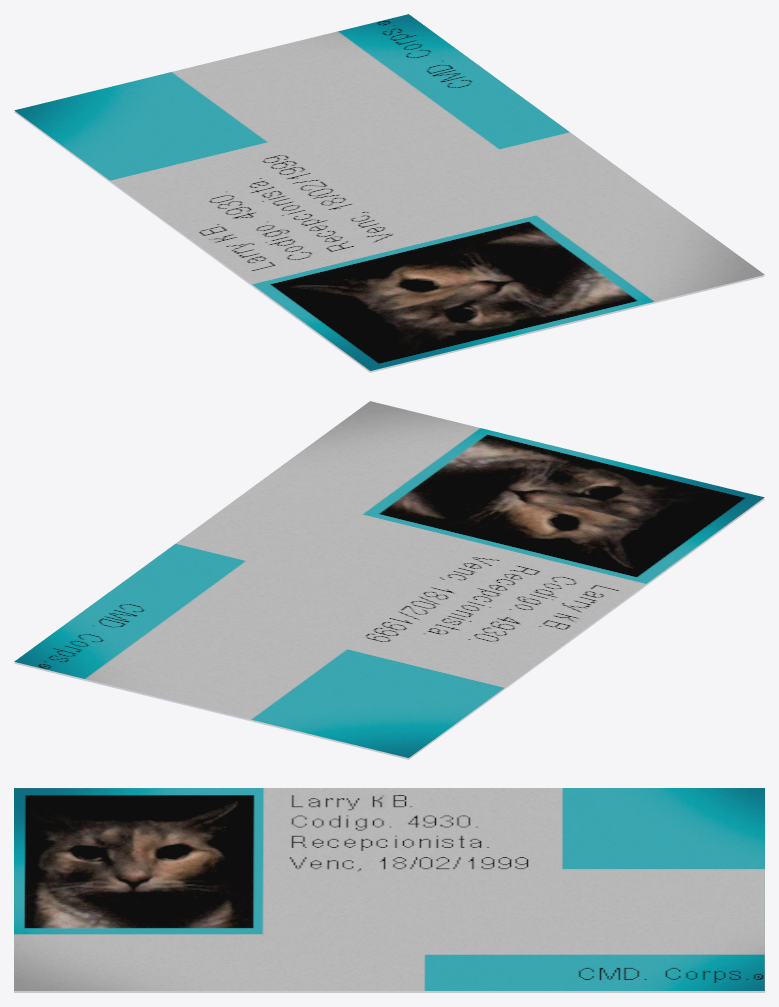
File: Credencial.fbx
3 renders of one model, top to bottom at view 1: azimuth 30°, elevation 25°; view 2: azimuth 150°, elevation 25°; view 3: azimuth 270°, elevation 25°, orthographic. The views are drawn at different scales.
Parts seen in each view (by area): view 1: Plane, Plane.001; view 2: Plane, Plane.001; view 3: Plane, Plane.001.
Boxes of the visible parts, left/top/right/bottom form: Plane: left=14, top=14, right=764, bottom=370; Plane.001: left=14, top=111, right=764, bottom=372; Plane: left=14, top=401, right=764, bottom=757; Plane.001: left=14, top=498, right=764, bottom=759; Plane: left=14, top=788, right=764, bottom=990; Plane.001: left=14, top=991, right=764, bottom=992.
Size of the model in its own units: 109 by 0.4603 by 170.
